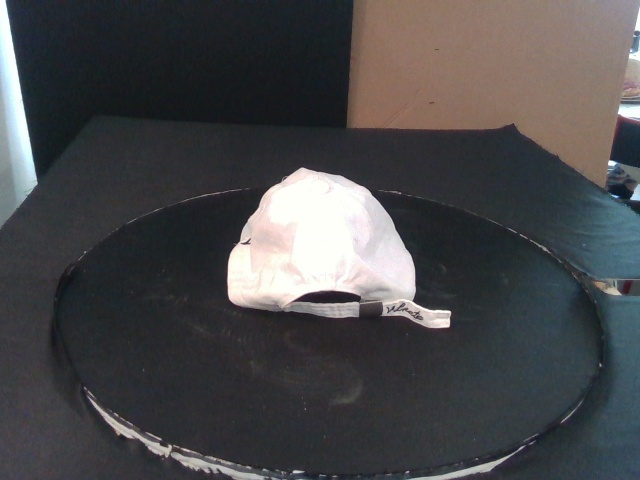hat: (227, 167, 416, 322)
